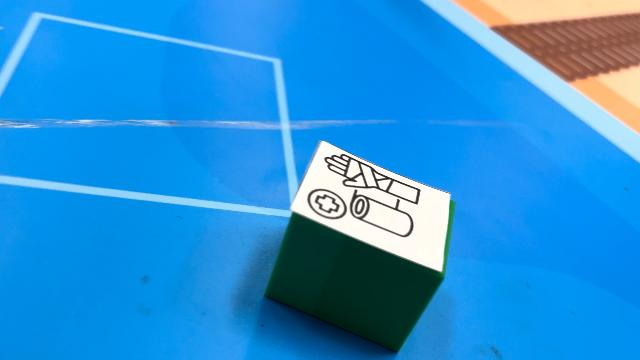bandage: (264, 140, 454, 354)
